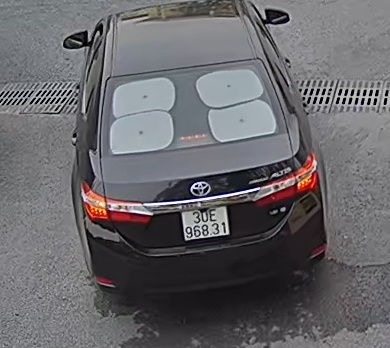vehicle plate: (177, 205, 234, 241)
